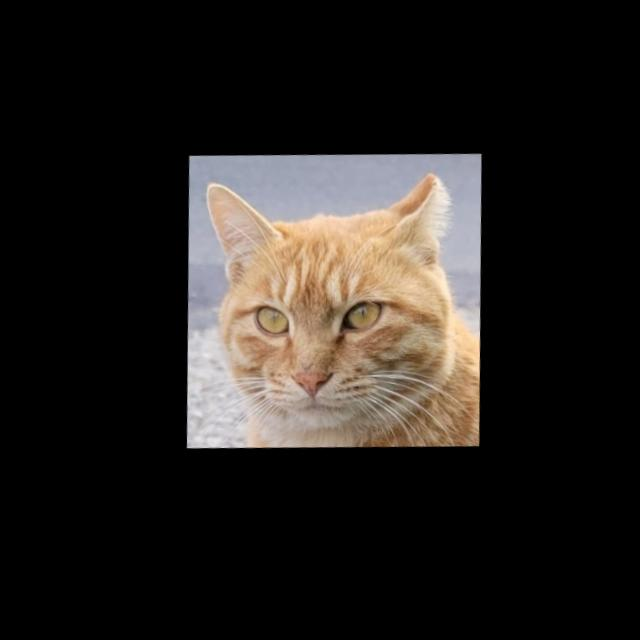animals: (180, 156, 468, 459)
